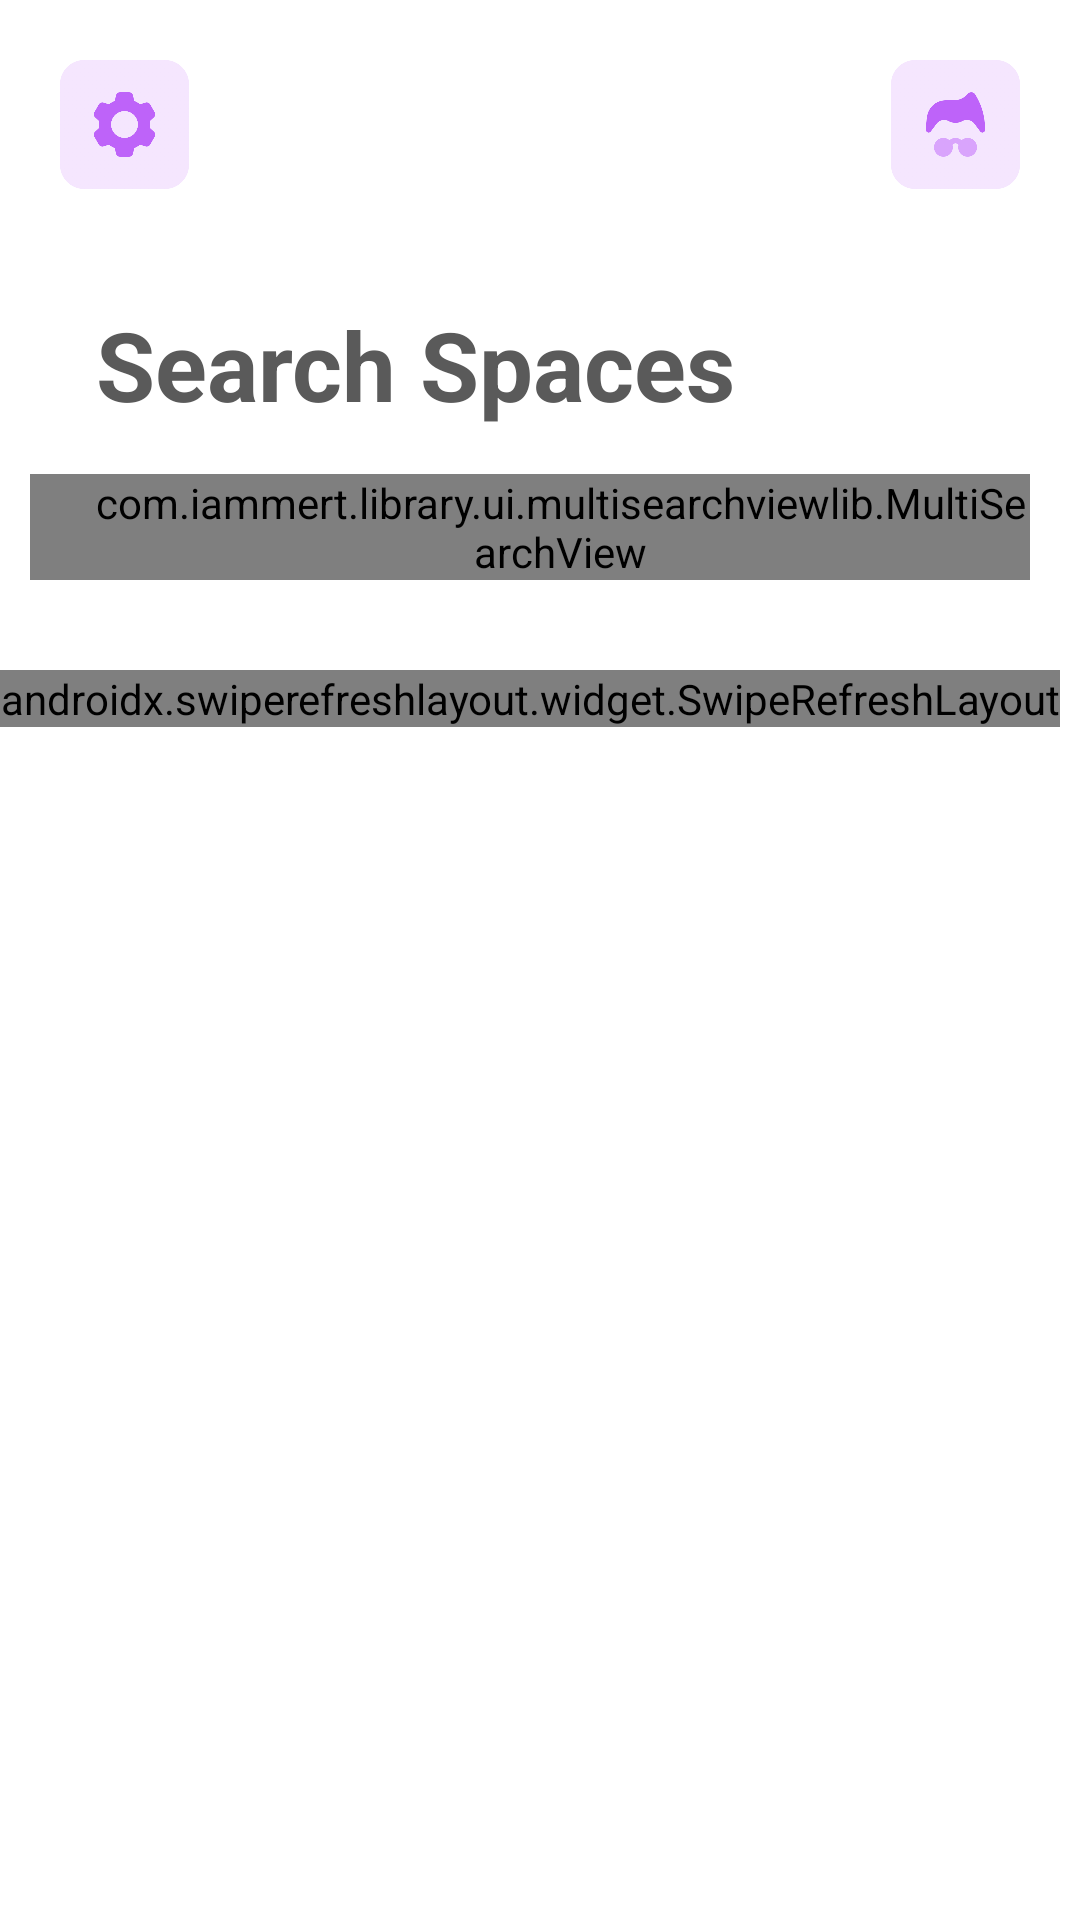

Where icons sit on this 1080x1920 app screen, as (x1, y1, x2, y2):
profile: (891, 60, 1020, 189)
settings: (60, 60, 189, 189)
